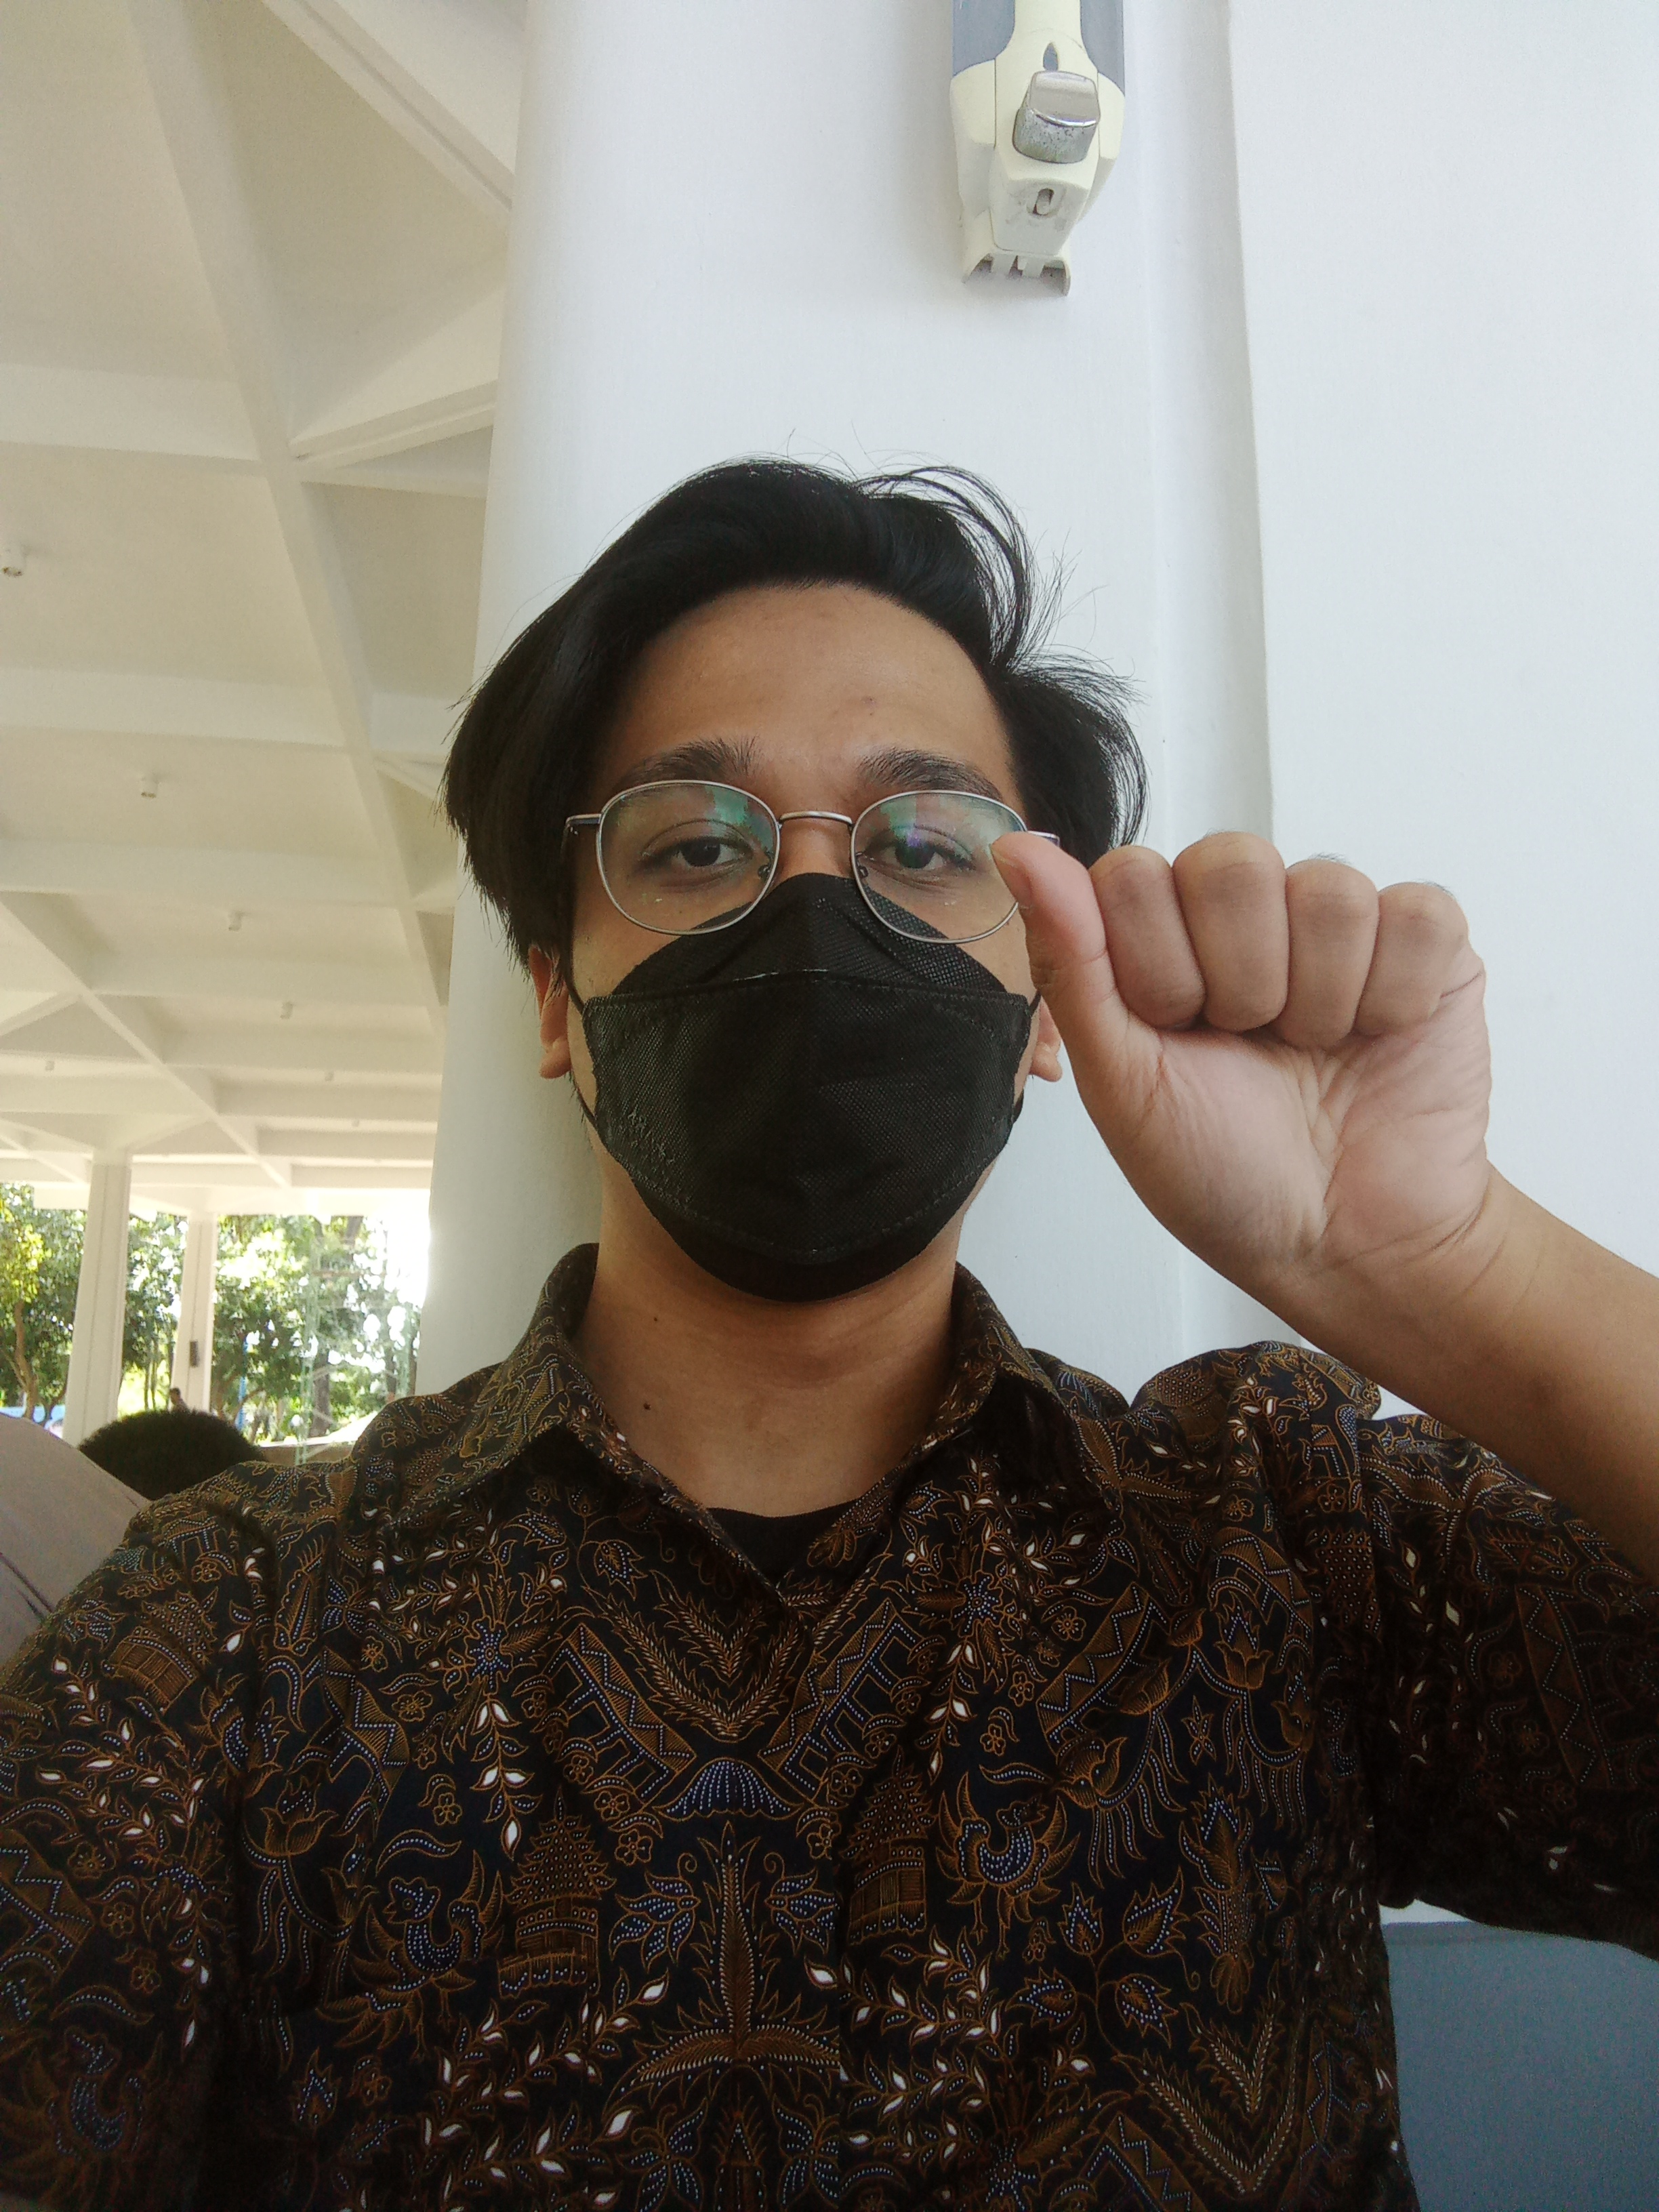A: (972, 791, 1563, 1296)
